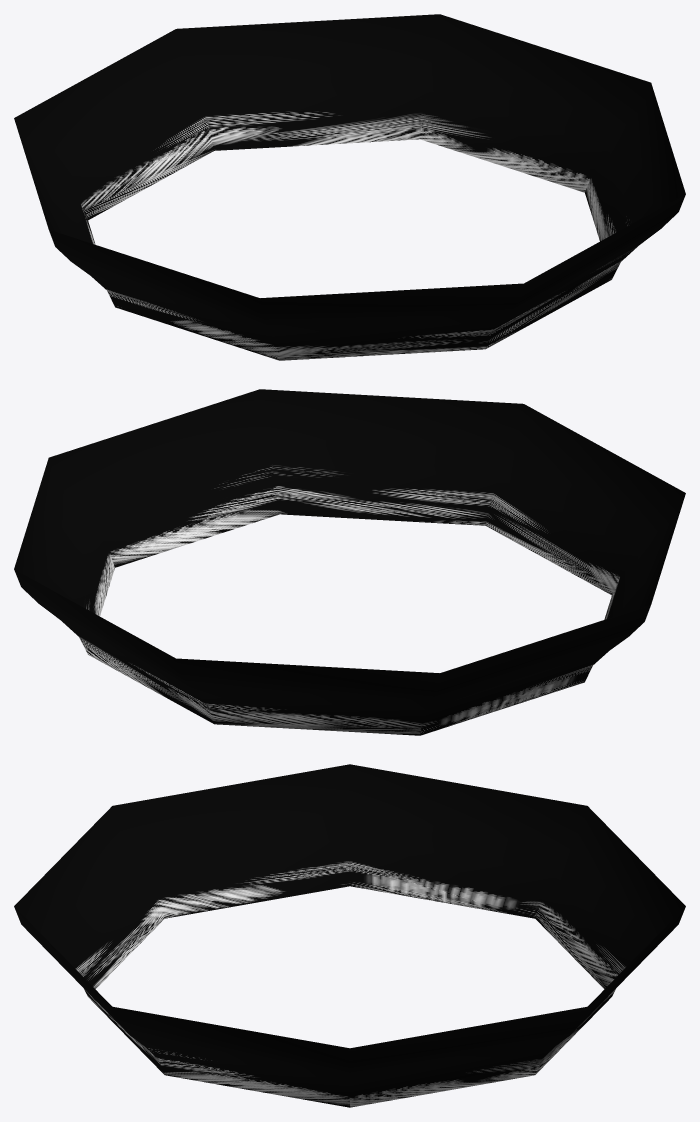
File: Particle_1.FBX
3 views of the same model, one above another, from view 1: azimuth 30°, elevation 25°; view 2: azimuth 150°, elevation 25°; view 3: azimuth 270°, elevation 25° (orthographic). The views are drawn at different scales.
Visible parts, largest first — view 1: Cylinder001; view 2: Cylinder001; view 3: Cylinder001.
Boxes of the visible parts, x1,y1,x2,y2 form: Cylinder001: [14, 14, 685, 360]; Cylinder001: [14, 389, 685, 735]; Cylinder001: [14, 764, 685, 1107].
Bounding box in the file's own units: 125 × 18.56 × 125.
